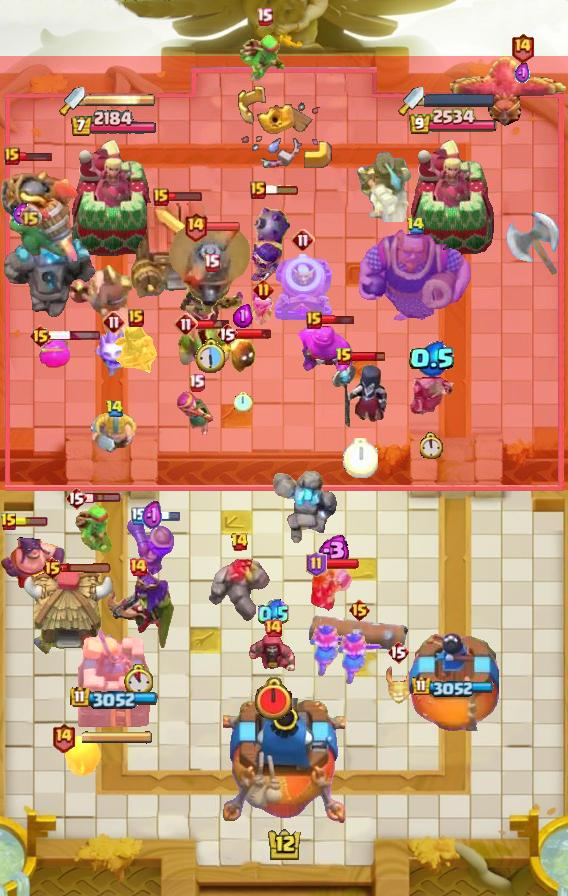archer: (177, 391, 215, 439)
axe: (504, 209, 562, 281)
bar: (61, 563, 113, 574), (49, 330, 101, 341), (145, 510, 182, 523), (351, 350, 386, 363), (320, 313, 355, 326), (85, 492, 122, 504), (324, 558, 360, 570), (236, 328, 272, 340), (264, 184, 300, 196), (196, 318, 231, 330), (18, 150, 53, 162), (205, 221, 241, 232), (167, 191, 203, 202), (12, 517, 48, 527)
bar-level: (51, 722, 76, 753), (183, 211, 208, 242), (510, 32, 535, 63), (174, 312, 198, 336), (102, 310, 126, 334), (291, 228, 315, 252), (348, 598, 371, 622), (41, 556, 64, 580), (29, 324, 52, 348), (306, 551, 327, 577), (19, 205, 42, 228), (387, 640, 409, 664), (65, 486, 87, 510), (216, 322, 238, 346), (253, 279, 274, 300), (263, 618, 283, 638), (128, 557, 148, 577), (230, 532, 249, 552), (105, 399, 124, 418), (406, 216, 425, 235), (0, 512, 18, 532), (335, 347, 353, 367), (188, 373, 205, 392), (203, 253, 220, 272), (256, 7, 273, 26), (131, 507, 147, 525), (306, 311, 322, 329), (128, 309, 144, 327), (153, 188, 169, 206), (250, 181, 266, 199), (4, 147, 20, 165)
bomber-evolution: (247, 190, 295, 286)
clock: (253, 677, 294, 722), (343, 438, 378, 478), (195, 338, 228, 374), (124, 664, 153, 696), (420, 432, 444, 459), (234, 391, 253, 412)
dagger-duchess-tower: (409, 138, 497, 256), (70, 138, 158, 256), (75, 623, 153, 731)
dagger-duchess-tower-bar: (82, 730, 154, 744), (424, 93, 496, 107), (85, 93, 155, 107)
elite-barbarian: (90, 410, 138, 453)
elixir: (409, 341, 456, 377), (314, 535, 351, 566), (258, 599, 289, 630), (142, 500, 163, 532), (233, 303, 253, 328), (13, 202, 30, 227), (515, 62, 530, 85)
elixir-golem-mid: (293, 325, 357, 379)
elixir-golem-small: (38, 338, 70, 368)
executioner: (0, 521, 66, 599)
fire-spirit: (229, 336, 257, 374)
goblin-brawler: (175, 322, 235, 376)
golemite: (269, 468, 343, 550), (205, 557, 273, 627)
ice-spirit-evolution: (92, 324, 136, 378)
king-tower: (223, 698, 345, 826)
lava-pup: (383, 666, 413, 704)
little-prince: (177, 272, 246, 328)
mini-pekka: (409, 373, 455, 419)
mortar-evolution: (271, 254, 335, 324)
musketeer: (127, 515, 177, 579)
night-witch: (331, 360, 389, 430)
phoenix-egg: (62, 734, 102, 778)
princess: (113, 322, 159, 380)
queen-tower: (407, 633, 499, 731)
skeleton-evolution: (249, 291, 277, 327)
spear-goblin: (239, 30, 289, 84), (74, 503, 112, 553)
the-log: (309, 615, 409, 651)
tower-bar: (408, 108, 498, 136), (70, 110, 158, 138), (70, 686, 158, 709), (412, 676, 494, 697)
valkyrie: (336, 632, 384, 686), (308, 624, 356, 678), (310, 567, 354, 615)
wizard: (247, 631, 299, 679)
